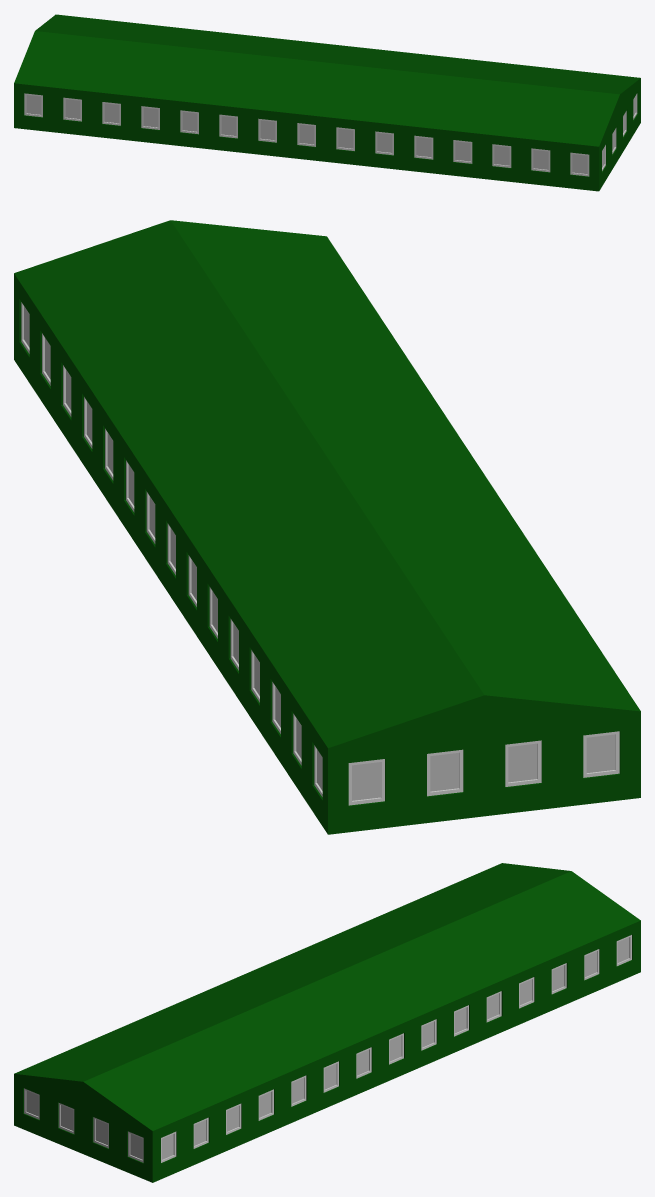
The model's file is skur-osm2world.glb.
3 views of the same model, one above another, from view 1: azimuth 30°, elevation 25°; view 2: azimuth 150°, elevation 25°; view 3: azimuth 270°, elevation 25° (orthographic). The views are drawn at different scales.
Parts seen in each view (by area): view 1: Building Skur 11; view 2: Building Skur 11; view 3: Building Skur 11.
Part boxes in pixels (x1,y1,x2,y2): Building Skur 11: [14, 14, 640, 191]; Building Skur 11: [14, 220, 640, 834]; Building Skur 11: [14, 863, 640, 1182].
Size of the model in its own units: 27.8 by 3.5 by 27.46.
